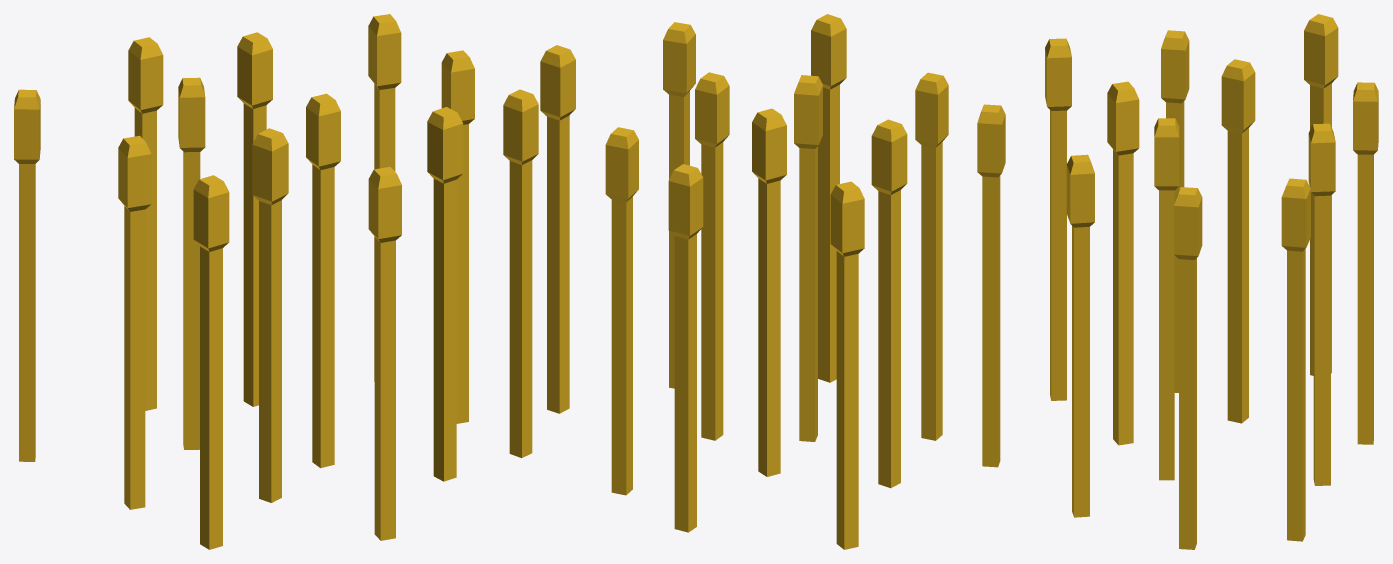
The model's file is Wheat.fbx.
The picture shows the model from 3 angles, left to right: view 1: azimuth 30°, elevation 25°; view 2: azimuth 150°, elevation 25°; view 3: azimuth 270°, elevation 25°; orthographic projection. The views are drawn at different scales.
Parts seen in each view (by area): view 1: Cube.003, Cube.002, Cube.008, Cube, Cube.007, Cube.006, Cube.005, Cube.010, Cube.001, Cube.009, Cube.011, Cube.004; view 2: Cube.004, Cube.007, Cube.011, Cube.009, Cube.001, Cube.010, Cube, Cube.005, Cube.008, Cube.006, Cube.002, Cube.003; view 3: Cube.001, Cube.002, Cube.004, Cube.006, Cube.003, Cube.011, Cube.005, Cube.008, Cube.009, Cube, Cube.010, Cube.007.
Part boxes in pixels (left/top/right/bottom): Cube.003: left=427, top=107, right=463, bottom=481; Cube.002: left=252, top=128, right=288, bottom=502; Cube.008: left=193, top=175, right=229, bottom=549; Cube: left=306, top=93, right=340, bottom=468; Cube.007: left=118, top=135, right=151, bottom=509; Cube.006: left=368, top=167, right=401, bottom=540; Cube.005: left=237, top=32, right=272, bottom=406; Cube.010: left=14, top=89, right=40, bottom=461; Cube.001: left=178, top=77, right=205, bottom=449; Cube.009: left=128, top=37, right=163, bottom=410; Cube.011: left=441, top=50, right=474, bottom=423; Cube.004: left=368, top=14, right=401, bottom=381; Cube.004: left=503, top=89, right=538, bottom=457; Cube.007: left=871, top=119, right=907, bottom=488; Cube.011: left=540, top=45, right=575, bottom=413; Cube.009: left=668, top=164, right=703, bottom=532; Cube.001: left=752, top=108, right=786, bottom=476; Cube.010: left=830, top=181, right=864, bottom=549; Cube: left=695, top=72, right=729, bottom=440; Cube.005: left=605, top=127, right=638, bottom=495; Cube.008: left=915, top=72, right=948, bottom=440; Cube.006: left=811, top=14, right=846, bottom=382; Cube.002: left=794, top=75, right=822, bottom=441; Cube.003: left=663, top=22, right=695, bottom=388; Cube.001: left=1221, top=59, right=1255, bottom=423; Cube.002: left=1107, top=81, right=1139, bottom=445; Cube.004: left=1281, top=178, right=1310, bottom=541; Cube.006: left=977, top=104, right=1005, bottom=467; Cube.003: left=1066, top=154, right=1094, bottom=517; Cube.011: left=1174, top=187, right=1202, bottom=549; Cube.005: left=1308, top=123, right=1335, bottom=485; Cube.008: left=1045, top=38, right=1071, bottom=400; Cube.009: left=1353, top=82, right=1378, bottom=444; Cube: left=1154, top=118, right=1179, bottom=480; Cube.010: left=1304, top=14, right=1338, bottom=375; Cube.007: left=1161, top=30, right=1189, bottom=392.
Bounding box in the file's own units: 220 × 201 × 203.
